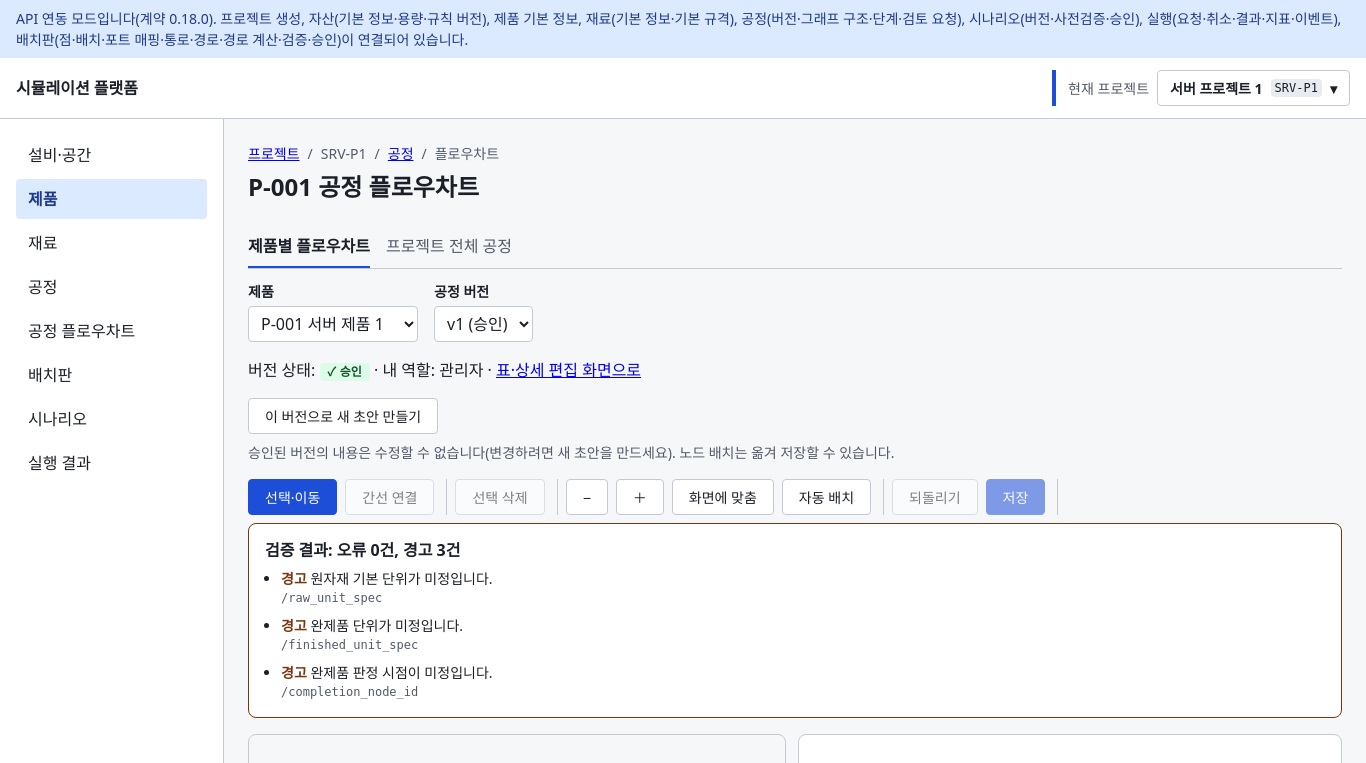
Scenario: 플로우차트: 상태 전환 › 승인본에서 '이 버전으로 새 초안 만들기'는 그 버전을 기준으로 복사해 새 초안의 플로우차트로 이동한다
Click the button "이 버전으로 새 초안 만들기". click: (343, 416)
box: x1=248 y1=398 x2=438 y2=434
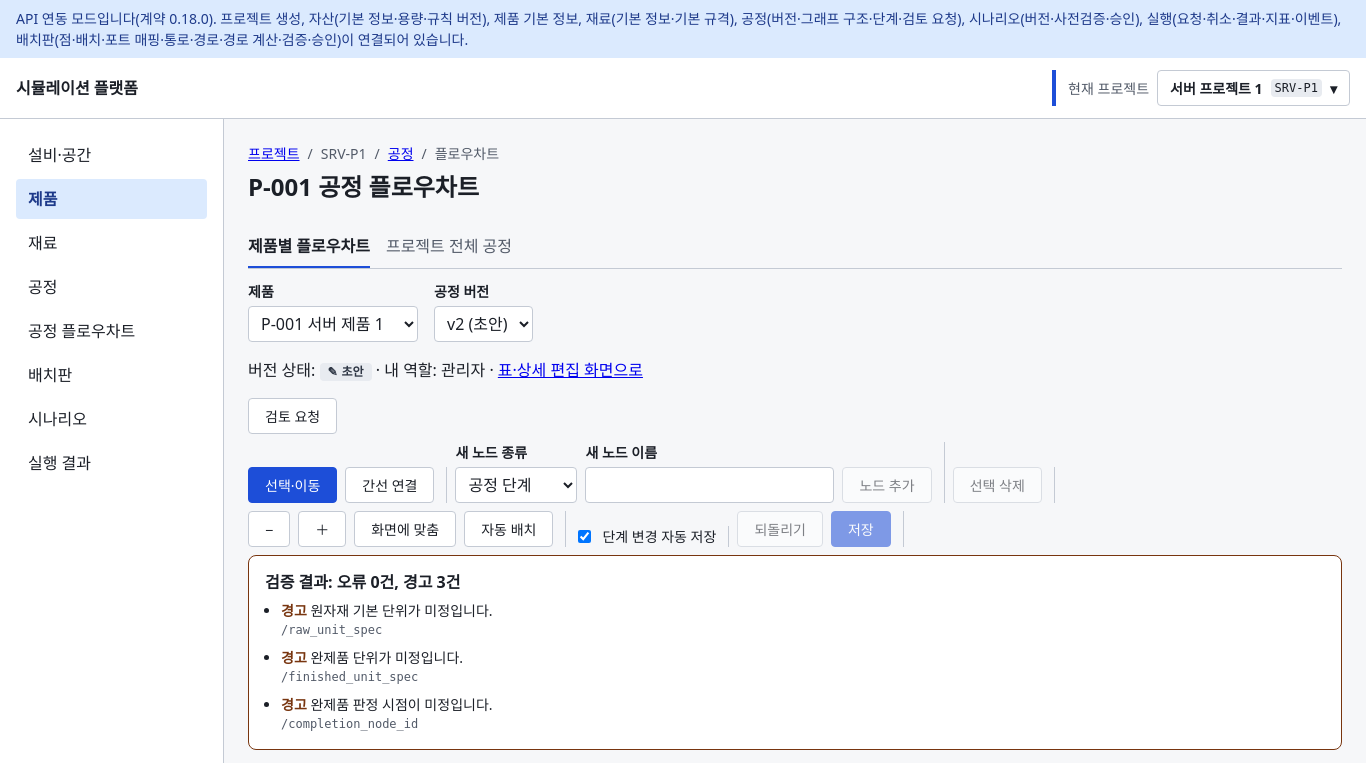
Result: the button "검토 요청" is shown at x1=248 y1=398 x2=337 y2=434
